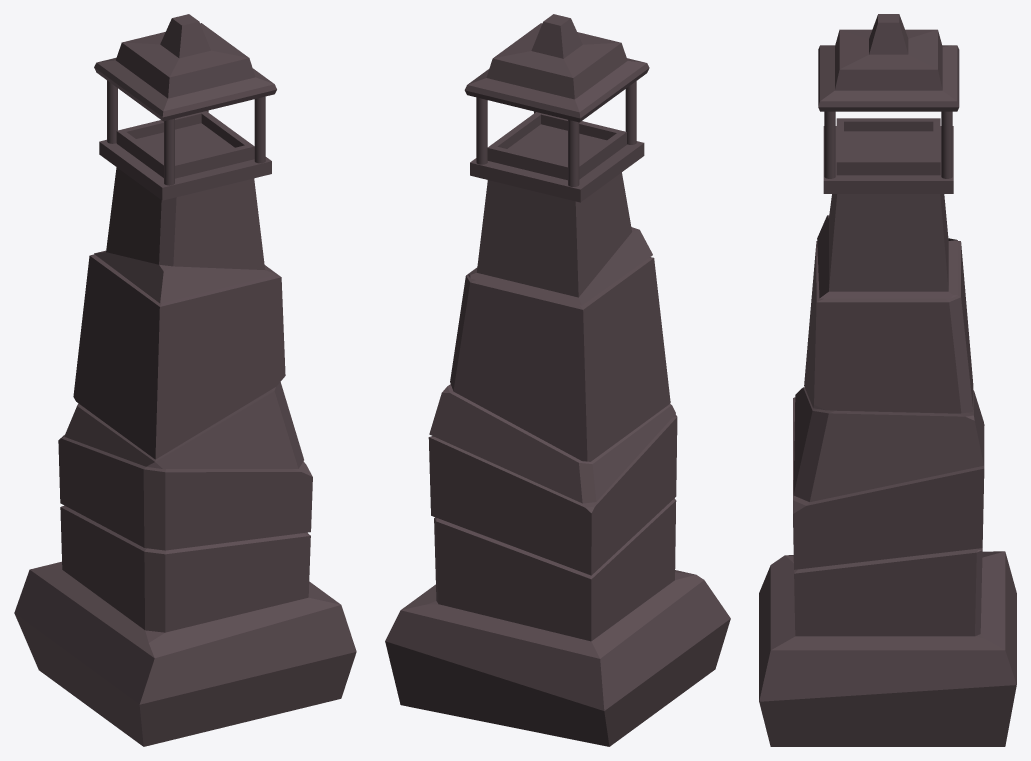
The model's file is TOTEM DE FOGO certo.fbx.
3 views of the same model, side by side, from view 1: azimuth 30°, elevation 25°; view 2: azimuth 150°, elevation 25°; view 3: azimuth 270°, elevation 25° (orthographic). The views are drawn at different scales.
Visible parts, largest first — view 1: Cube.003; view 2: Cube.003; view 3: Cube.003.
Boxes of the visible parts, left/top/right/bottom form: Cube.003: left=14, top=14, right=356, bottom=746; Cube.003: left=385, top=14, right=730, bottom=746; Cube.003: left=759, top=14, right=1016, bottom=746.
Bounding box in the file's own units: 223 × 648 × 223.
